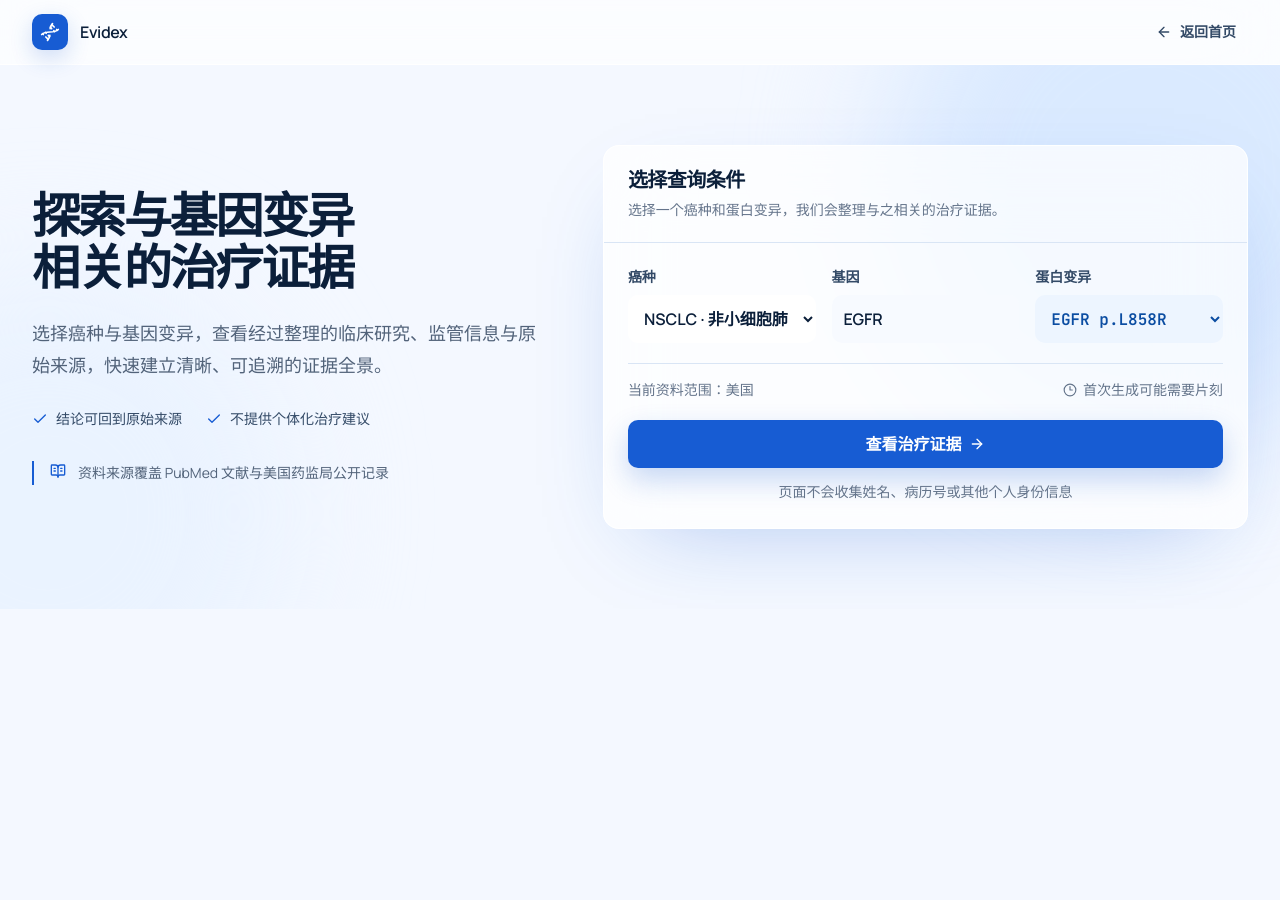
EvidenceExplorer › explains out-of-scope results without inventing evidence
Click the button "查看治疗证据".
click(925, 444)  # box [628, 420, 1223, 468]
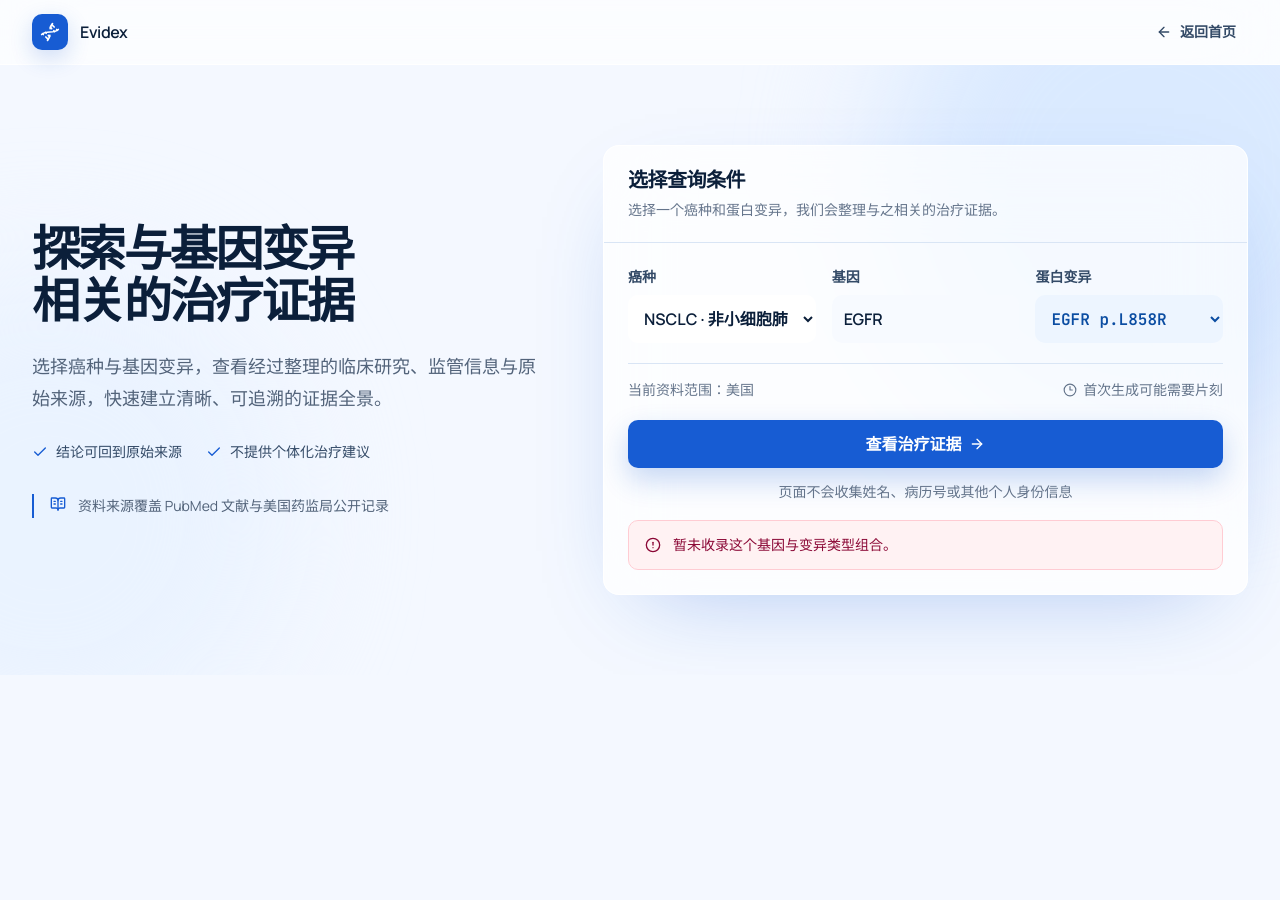
Expected: the text "暂未收录这个基因与变异类型组合。" is shown, [673, 533, 897, 557]
